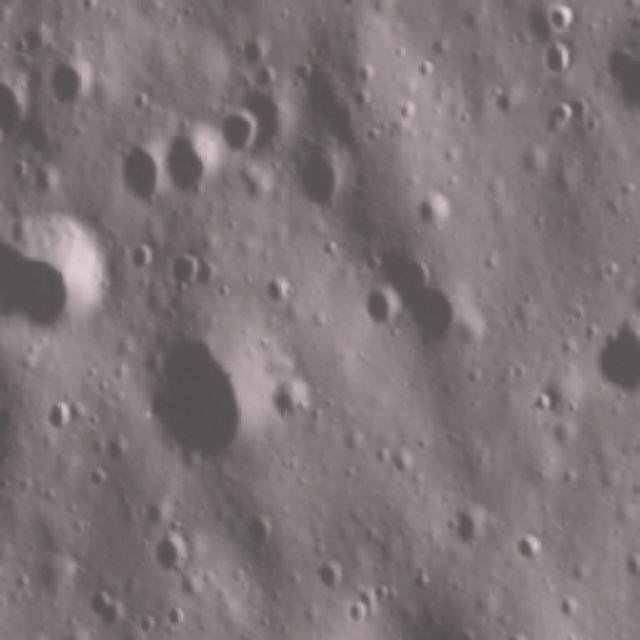crater: (138, 323, 267, 471), (0, 202, 109, 351), (589, 322, 640, 410), (403, 284, 460, 356), (120, 138, 174, 211), (164, 131, 218, 197), (44, 56, 99, 118), (0, 66, 37, 149), (141, 527, 196, 579), (296, 152, 347, 208), (442, 499, 492, 553), (32, 554, 83, 606), (216, 108, 264, 163), (88, 580, 132, 635), (364, 287, 401, 347), (243, 508, 282, 560), (412, 184, 454, 230), (168, 253, 206, 299), (508, 522, 544, 568), (542, 0, 580, 42), (542, 42, 578, 86), (272, 382, 308, 426), (311, 556, 347, 593), (344, 602, 374, 636)
